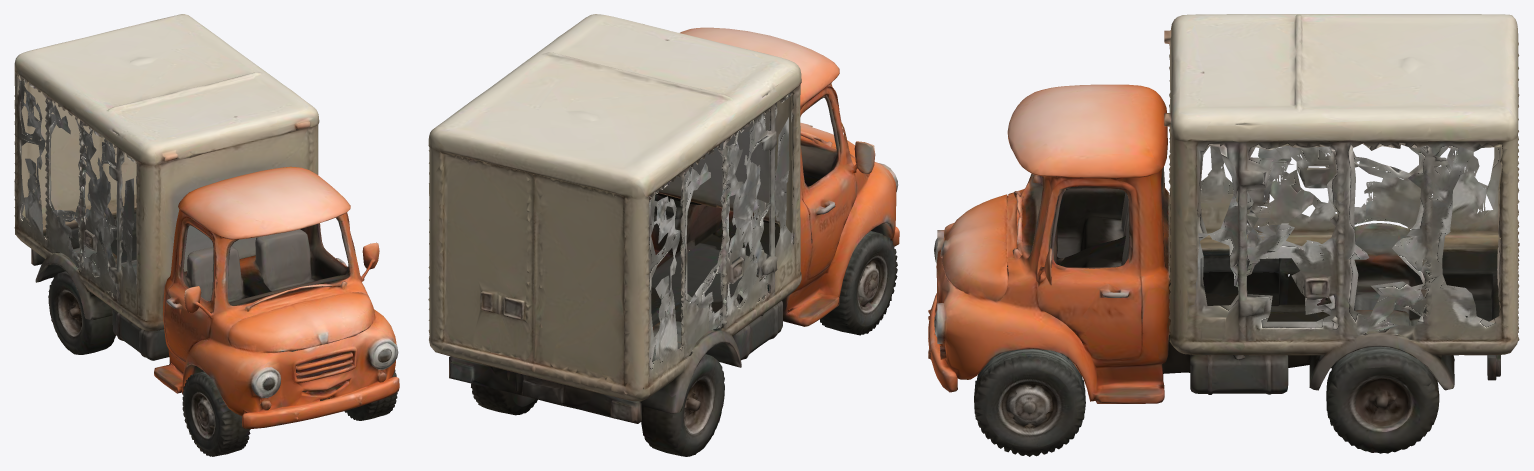
The model's file is caminhao_danificado.glb.
3 renders of one model, left to right at view 1: azimuth 30°, elevation 25°; view 2: azimuth 150°, elevation 25°; view 3: azimuth 270°, elevation 25°, orthographic. The views are drawn at different scales.
Visible parts, largest first — view 1: caminhao_danificado; view 2: caminhao_danificado; view 3: caminhao_danificado.
Part boxes in pixels (x1=…): caminhao_danificado: x1=14, y1=14, x2=399, y2=456; caminhao_danificado: x1=428, y1=14, x2=899, y2=456; caminhao_danificado: x1=928, y1=14, x2=1519, y2=456.
Bounding box in the file's own units: 3.17 × 4.15 × 6.5.
1 material, 1 textured.
